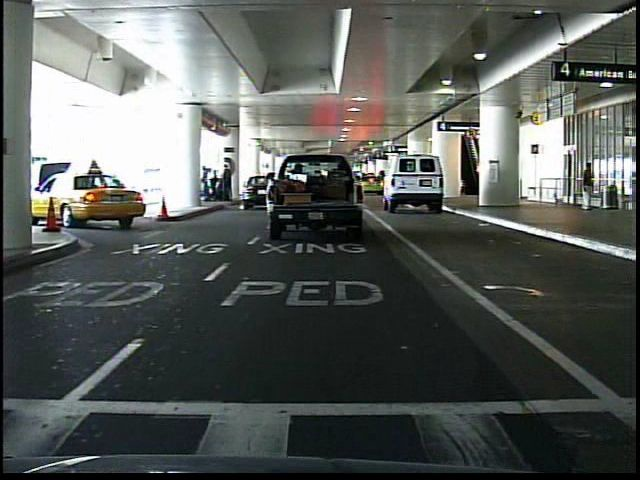person: (576, 161, 597, 214)
